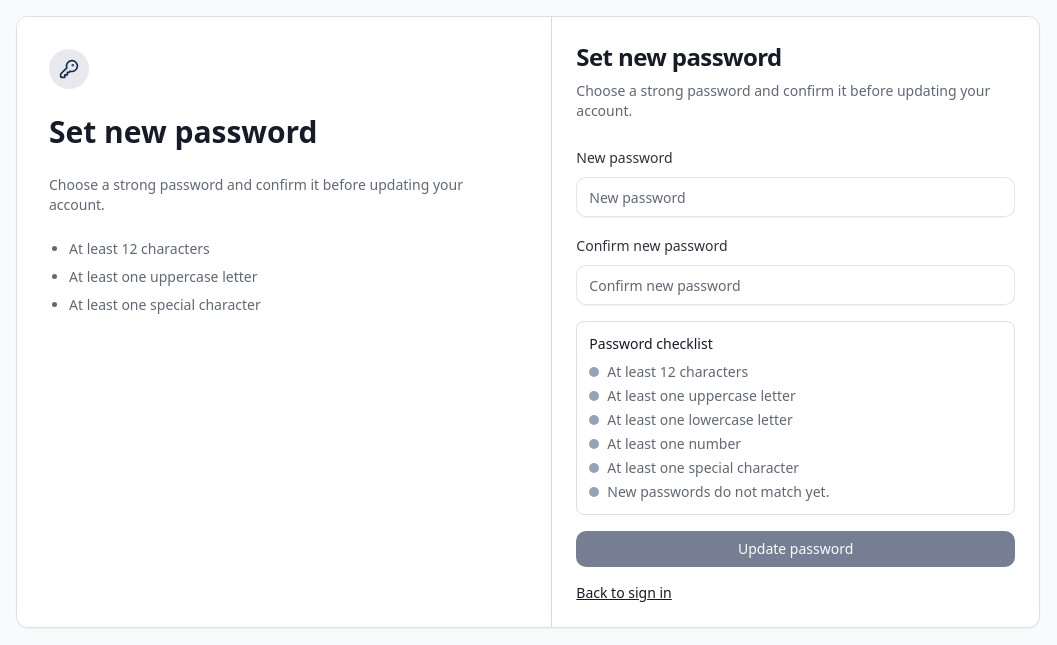
Test: ResetPasswordPage › keeps submit disabled until the password rules pass and confirmation matches
Expected: the button "Update password" is disabled, [576,531,1015,567]
Type "weak" into the password field labelled "New password" at (796, 197), box [576,177,1015,217]
Type "weak" into the password field labelled "Confirm new password" at (796, 285), box [576,265,1015,305]
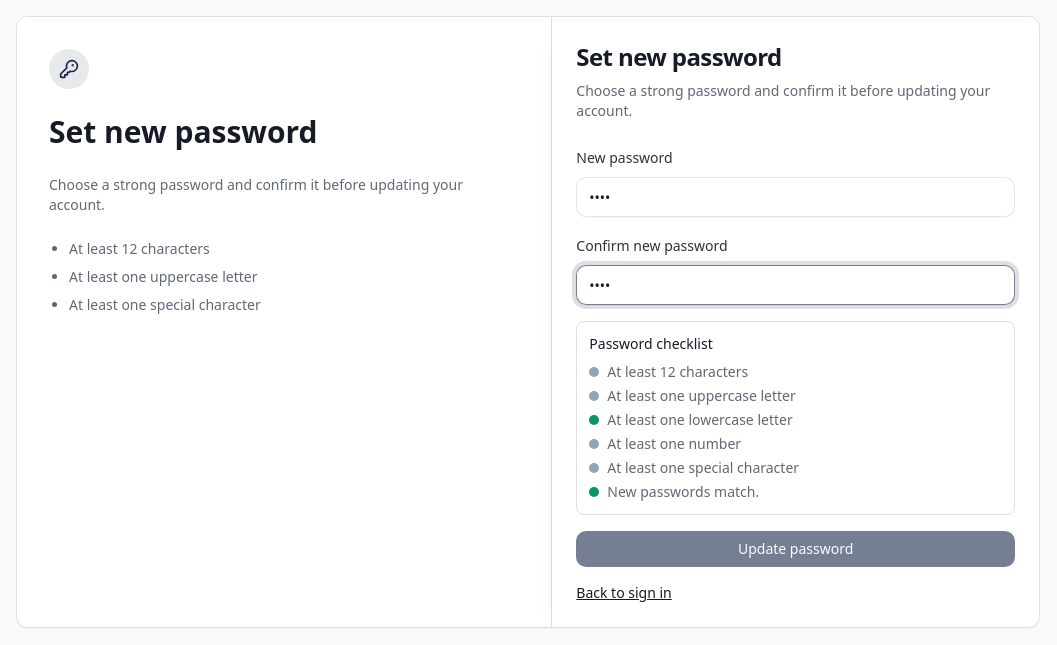
Expected: the button "Update password" is disabled, [576,531,1015,567]
Clear the password field labelled "New password" at (796, 197), box [576,177,1015,217]
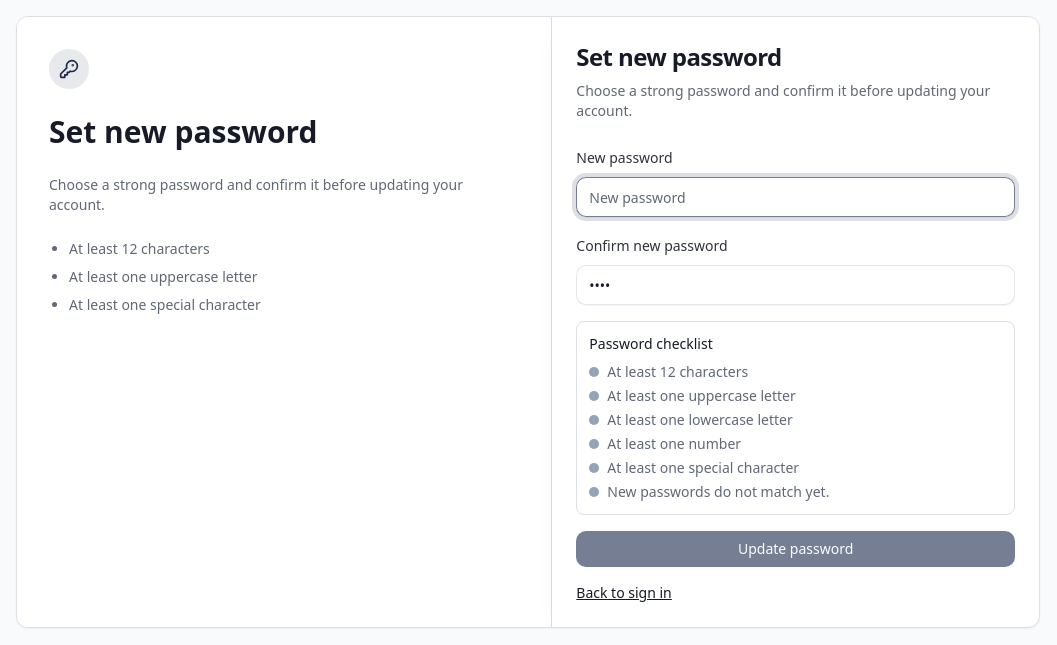
Clear the password field labelled "Confirm new password" at (796, 285), box [576,265,1015,305]
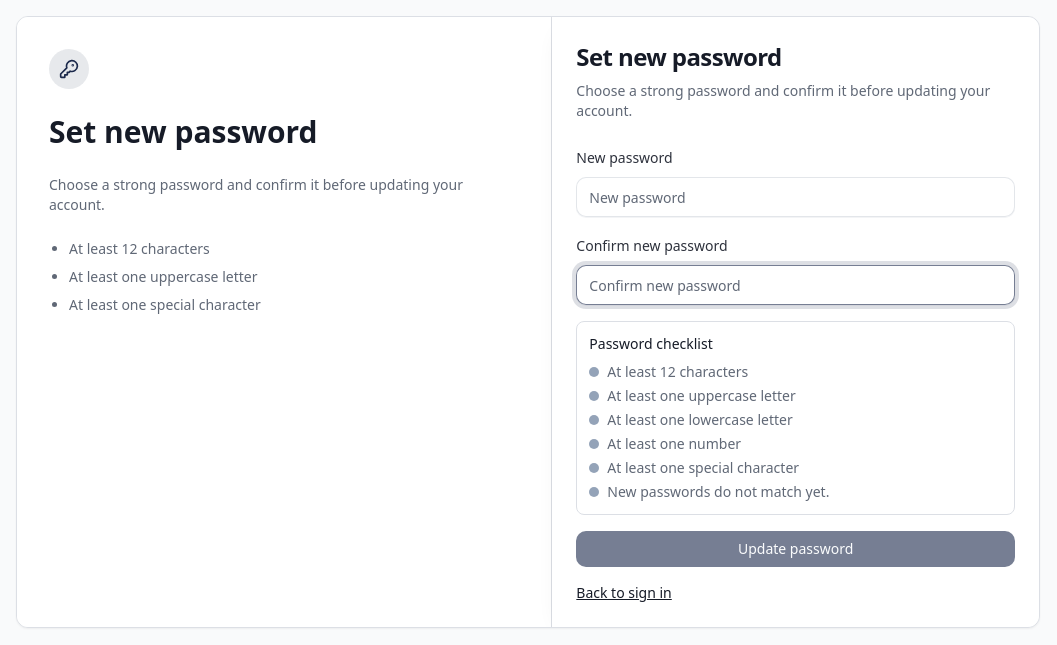
Type "Secret123!Secret" into the password field labelled "New password" at (796, 197), box [576,177,1015,217]
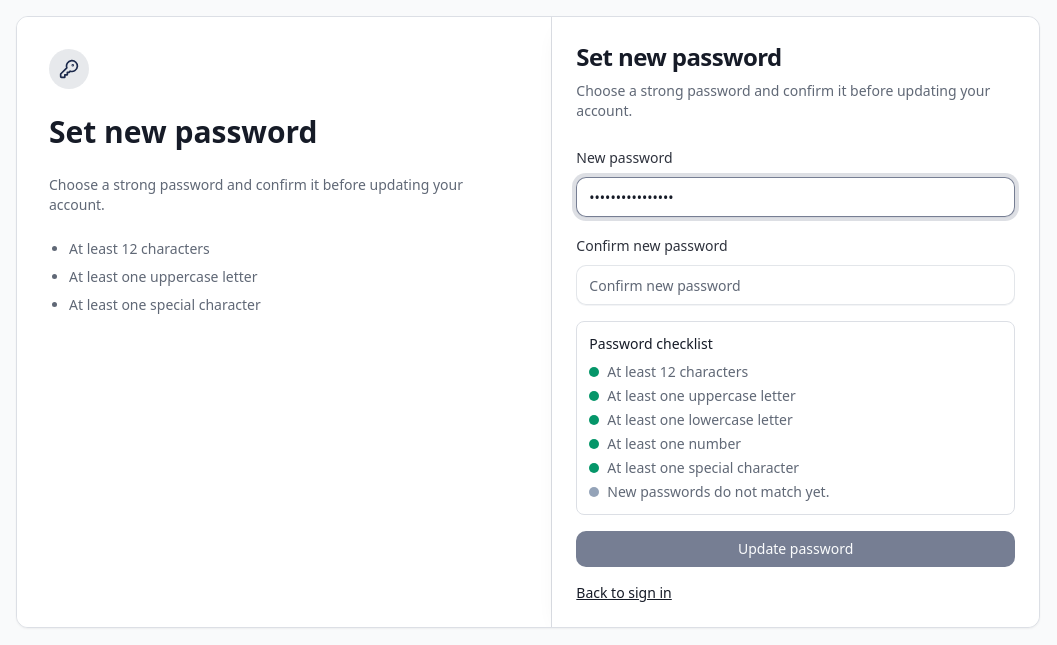
Type "Secret123!Mismatch" into the password field labelled "Confirm new password" at (796, 285), box [576,265,1015,305]
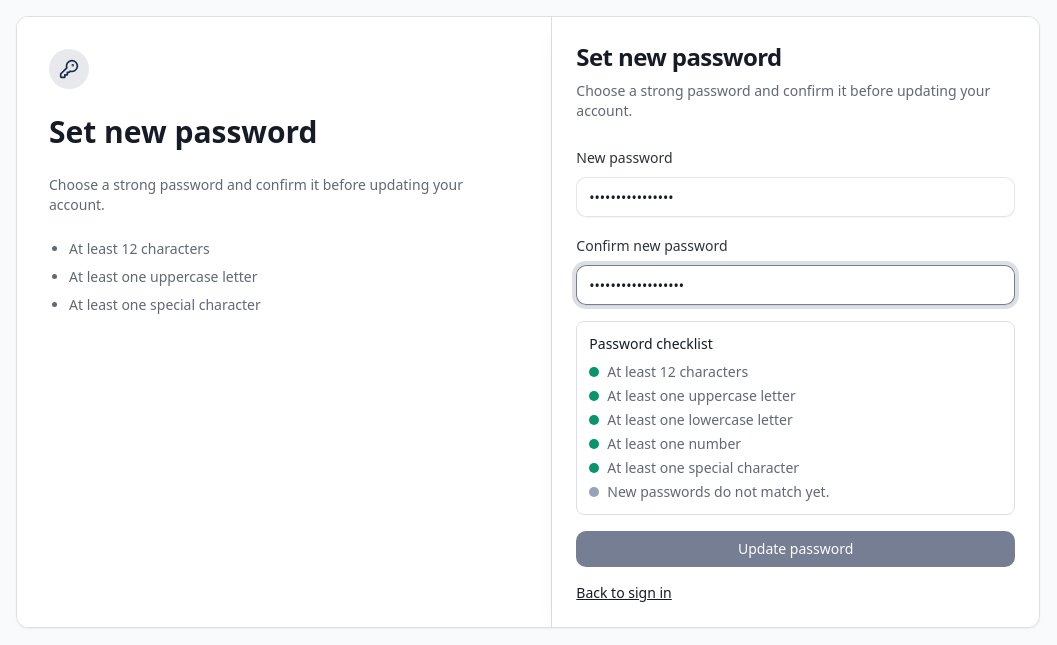
Expected: the button "Update password" is disabled, [576,531,1015,567]
Type "Secret123!Secret" into the password field labelled "Confirm new password" at (796, 285), box [576,265,1015,305]
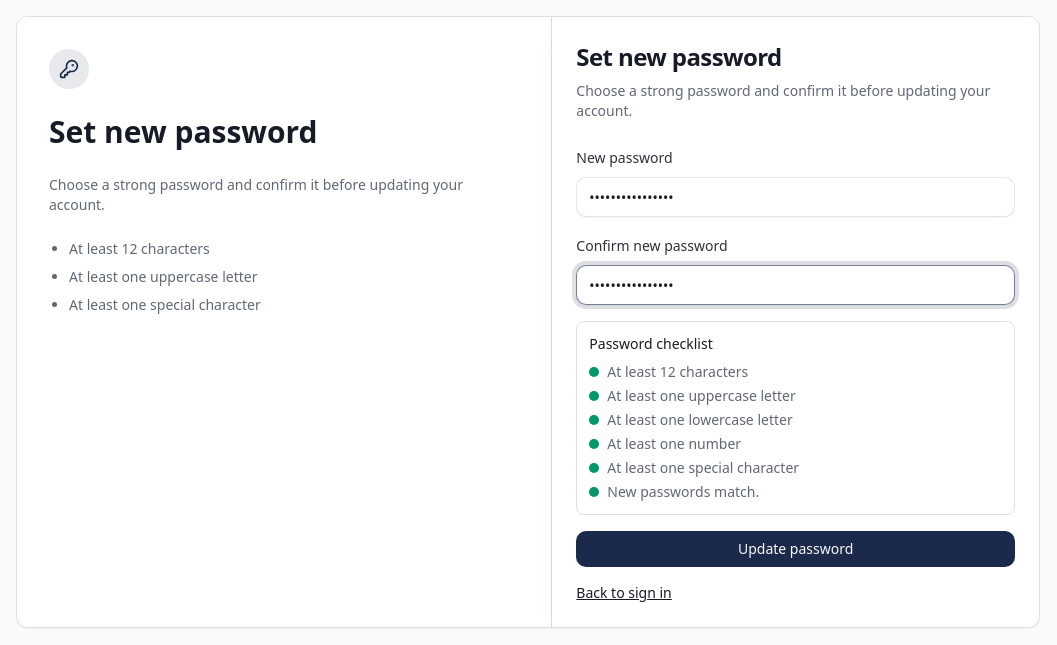
Expected: the button "Update password" is enabled, [576,531,1015,567]
